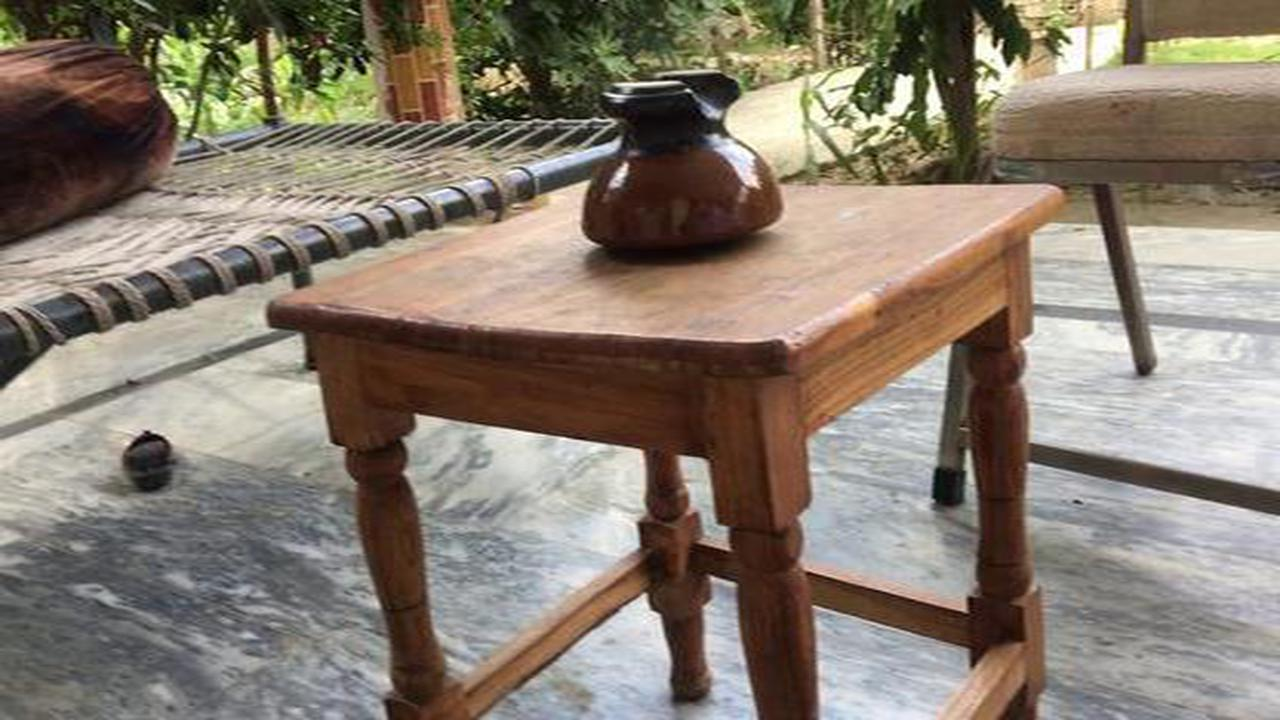insulator_pin: (570, 63, 794, 255)
